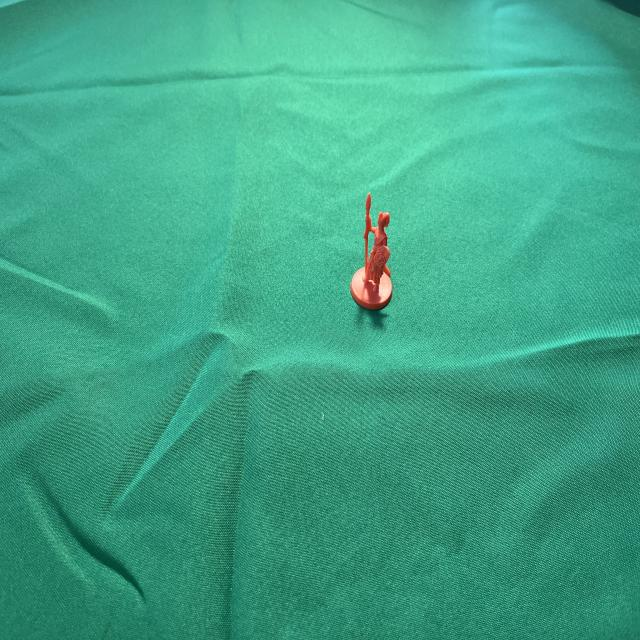amon_follower: (350, 193, 392, 310)
